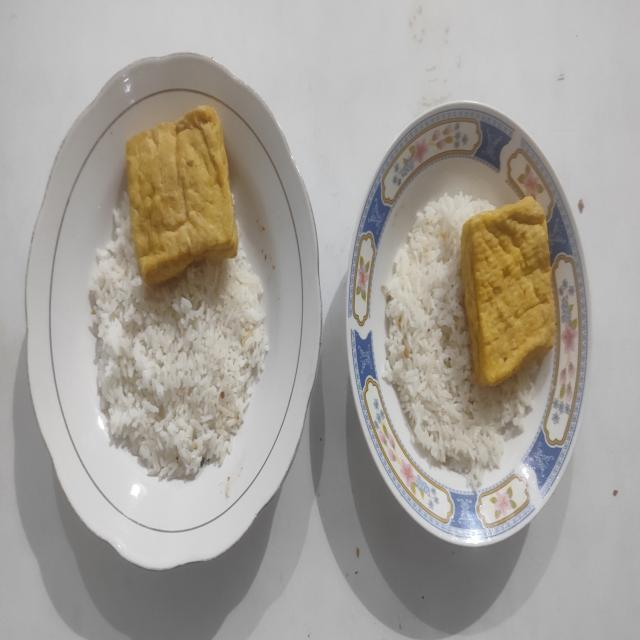nasi_putih: (89, 204, 268, 480), (381, 189, 538, 489)
tahu_goreng: (126, 106, 238, 285), (460, 198, 556, 386)
